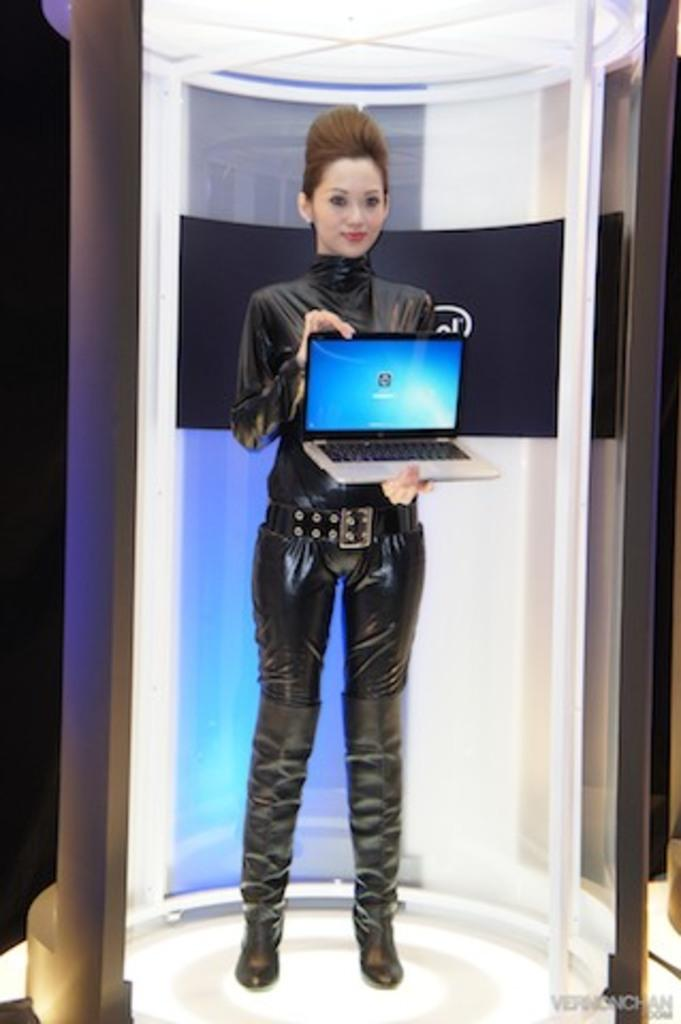Laptop: (297, 320, 474, 469)
